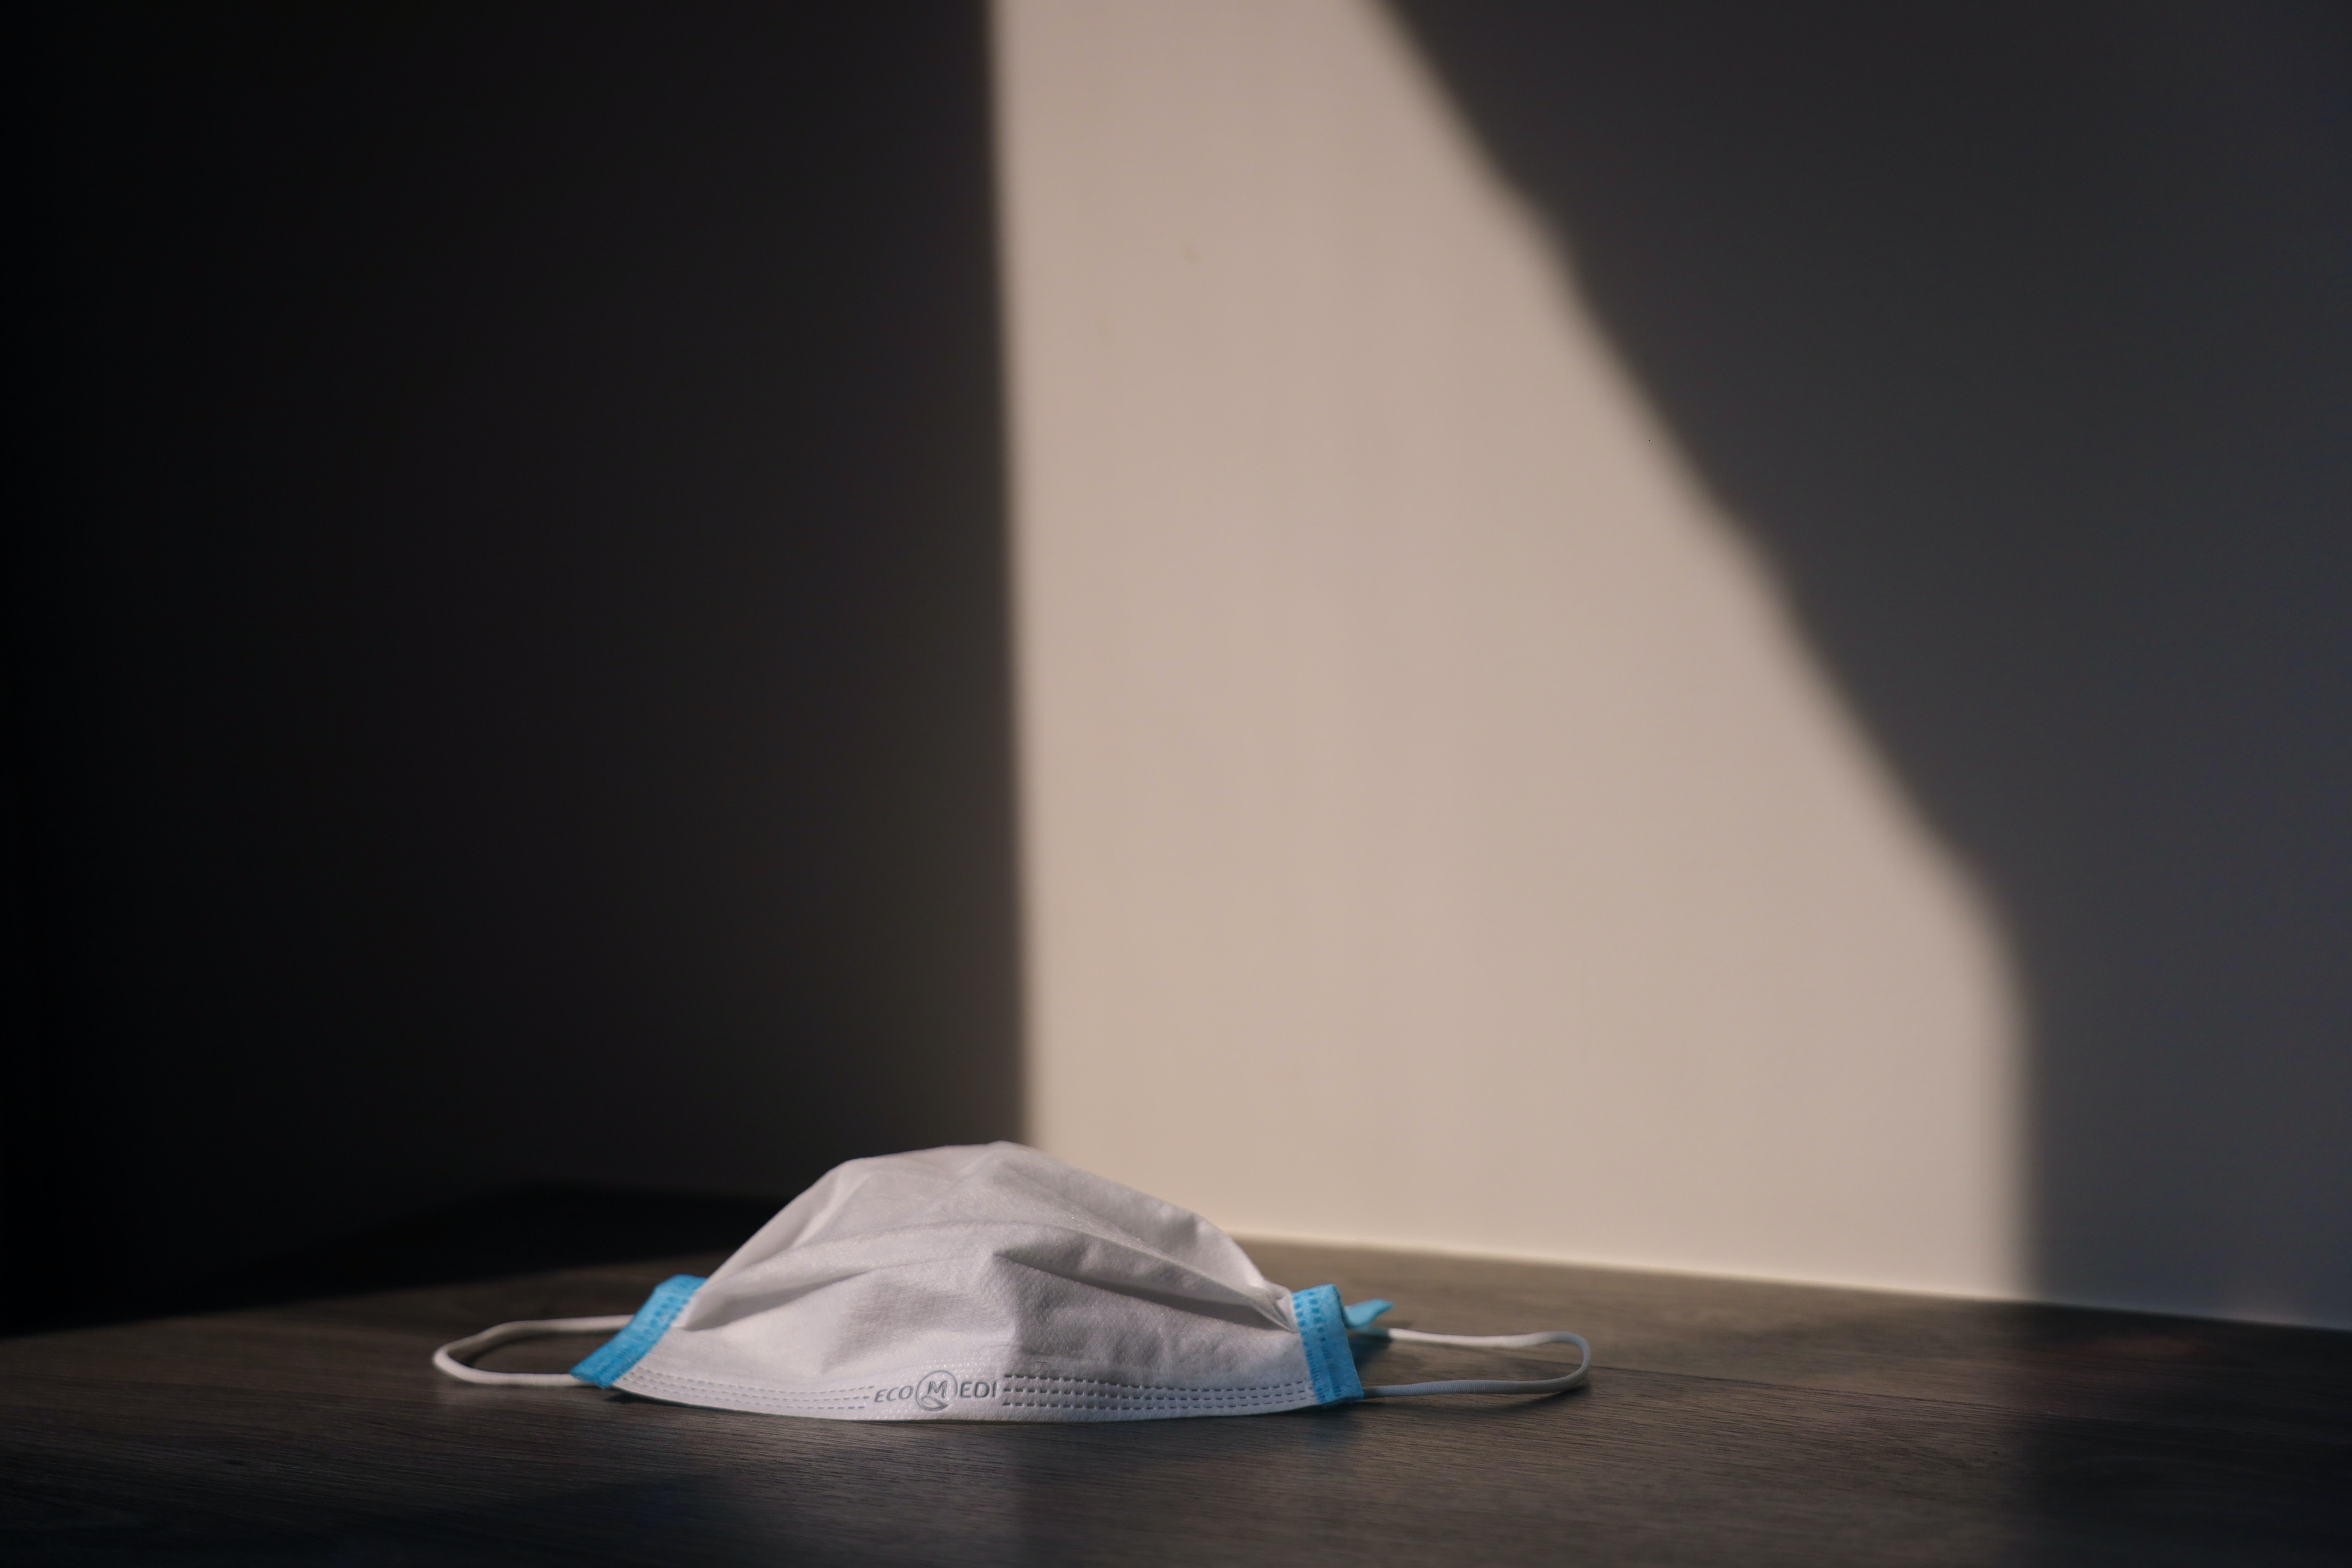mask: (427, 1108, 1621, 1449)
